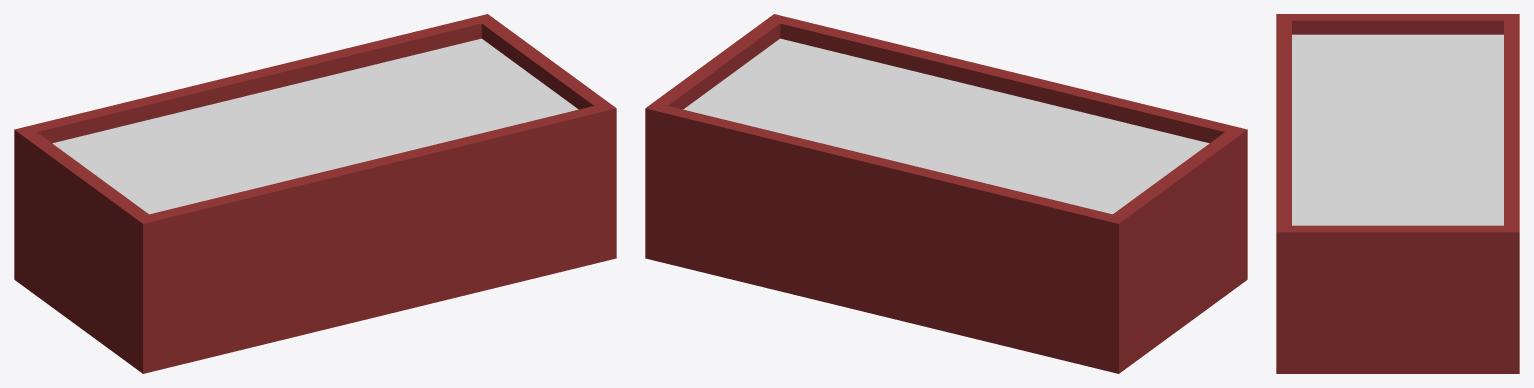
The picture shows the model from 3 angles, left to right: view 1: azimuth 30°, elevation 25°; view 2: azimuth 150°, elevation 25°; view 3: azimuth 270°, elevation 25°; orthographic projection. The views are drawn at different scales.
Visible parts, largest first — view 1: US; view 2: US; view 3: US.
Boxes of the visible parts, bbox=[...] form: US: bbox=[14, 14, 616, 373]; US: bbox=[645, 14, 1247, 373]; US: bbox=[1276, 14, 1519, 373].
Bounding box in the file's own units: 0.0196 × 0.00594 × 0.00925.
